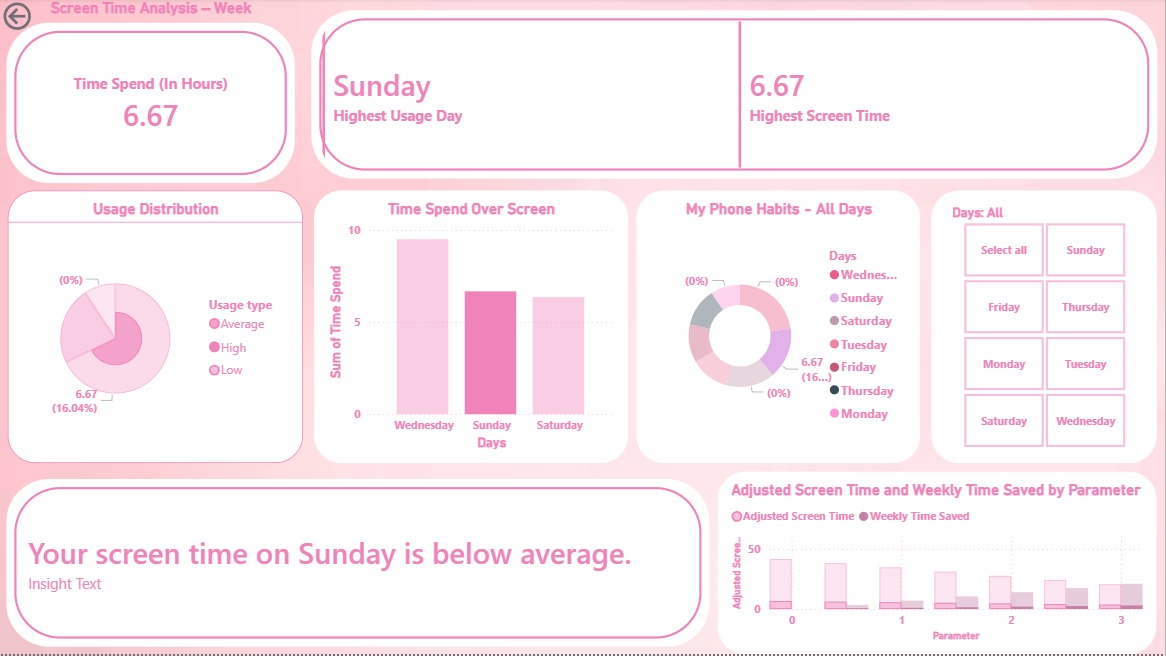

The dashboard page shown, as its layout file describes it:
{"tool":"powerbi","page":{"name":"Page 1","canvas":[1280,720],"ordinal":0},"visuals":[{"type":"columnChart","title":"Time Spend Over Screen","fields":{"Category":["Table.Days"],"Y":["Sum(Table.Time Spend)"]},"box":[345.8,211.3,344.4,299.1],"z":0},{"type":"donutChart","fields":{"Category":["Table.Days"],"Y":["Sum(Table.Time Spend)"]},"box":[699.8,211.3,311.5,299.1],"z":1000},{"type":"pieChart","title":"Usage Distribution","fields":{"Category":["Table.Usage type"],"Y":["Sum(Table.Time Spend)"]},"box":[9.6,211.3,323.8,299.1],"z":2000},{"type":"slicer","fields":{"Values":["Table.Days"]},"box":[1023.7,211.3,247,299.1],"z":3000},{"type":"cardVisual","title":"Screen Time Analysis – Week","fields":{"Data":["Sum(Table.Time Spend)"]},"box":[0,0,333.8,211.6],"z":4000},{"type":"cardVisual","fields":{"Data":["Table.Highest Usage Day","Table.Highest Screen Time"]},"box":[334.8,5.5,945.5,201.7],"z":5000},{"type":"cardVisual","fields":{"Data":["Table.Insight Text"]},"box":[0,520,788.6,200],"z":6000},{"type":"clusteredColumnChart","fields":{"Y":["Parameter.Adjusted Screen Time","Parameter.Weekly Time Saved"],"Category":["Parameter.Parameter"]},"box":[789,520.1,481.6,200.3],"z":7000},{"type":"actionButton","box":[0,0,100,40],"z":9000}]}

Visuals, with their boxes in screenshot pixels (x1, y1, x2, y2), scaled from the page's 1280x720 canvas onto the 1166x656 screenshot:
"Time Spend Over Screen" columnChart: left=315, top=193, right=629, bottom=465
donutChart - Table.Days x Sum(Table.Time Spend): left=637, top=193, right=921, bottom=465
"Usage Distribution" pieChart: left=9, top=193, right=304, bottom=465
slicer - Table.Days: left=933, top=193, right=1158, bottom=465
"Screen Time Analysis – Week" cardVisual: left=0, top=0, right=304, bottom=193
cardVisual - Table.Highest Usage Day x Table.Highest Screen Time: left=305, top=5, right=1165, bottom=189
cardVisual - Table.Insight Text: left=0, top=474, right=718, bottom=655
clusteredColumnChart - Parameter.Adjusted Screen Time x Parameter.Weekly Time Saved: left=719, top=474, right=1157, bottom=655
actionButton: left=0, top=0, right=91, bottom=36
